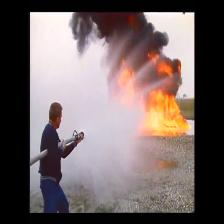fire: (151, 96, 184, 138)
smoke: (85, 15, 151, 37)
